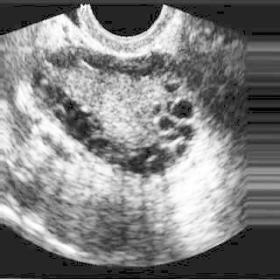PCOS: (172, 100, 197, 119), (165, 79, 193, 95), (91, 134, 111, 156), (148, 143, 171, 159), (50, 86, 68, 105), (128, 155, 148, 172), (172, 138, 187, 159), (65, 101, 83, 118), (181, 124, 200, 140), (159, 113, 174, 133)
